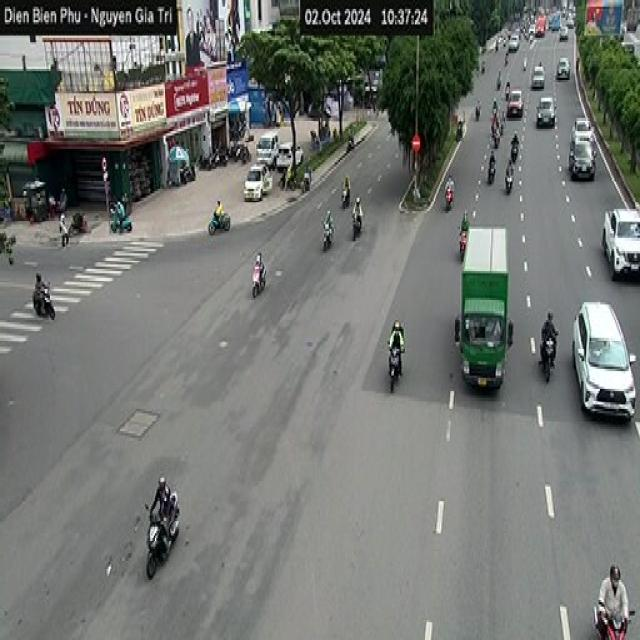car: (572, 300, 636, 422), (535, 95, 555, 126), (507, 89, 522, 115), (531, 64, 544, 89), (556, 56, 570, 78)
motorcycle: (145, 493, 180, 578), (593, 602, 635, 638), (538, 331, 556, 382), (386, 342, 404, 391), (33, 280, 55, 318), (208, 211, 230, 233), (252, 264, 266, 298), (321, 218, 334, 251), (504, 158, 514, 193), (458, 227, 468, 260), (488, 149, 497, 184), (352, 209, 362, 238), (340, 186, 350, 206)
person: (596, 564, 629, 638), (149, 476, 175, 536), (540, 311, 559, 367), (386, 320, 404, 376), (251, 251, 265, 287), (351, 195, 364, 229), (59, 211, 69, 247), (212, 198, 224, 226)
truck: (452, 220, 514, 391)
